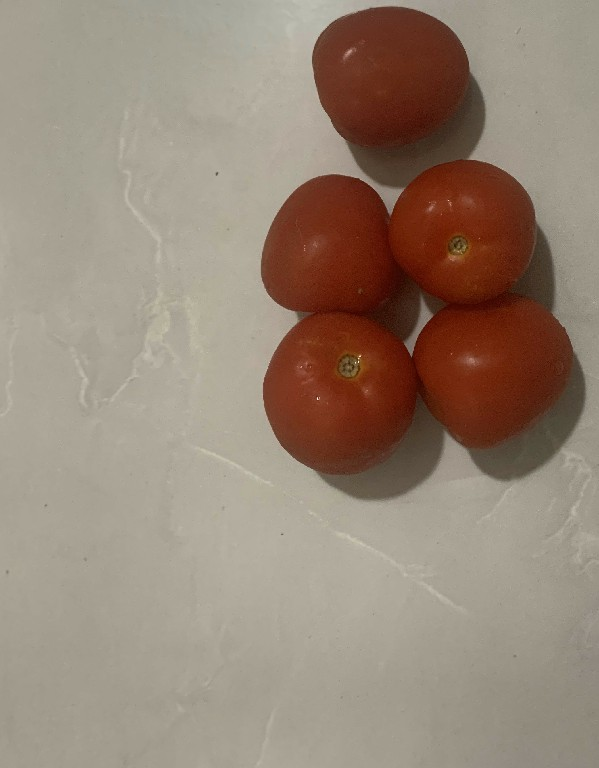OK: (263, 312, 416, 476), (419, 297, 578, 448), (309, 6, 472, 147), (394, 158, 543, 303), (263, 171, 393, 315)
